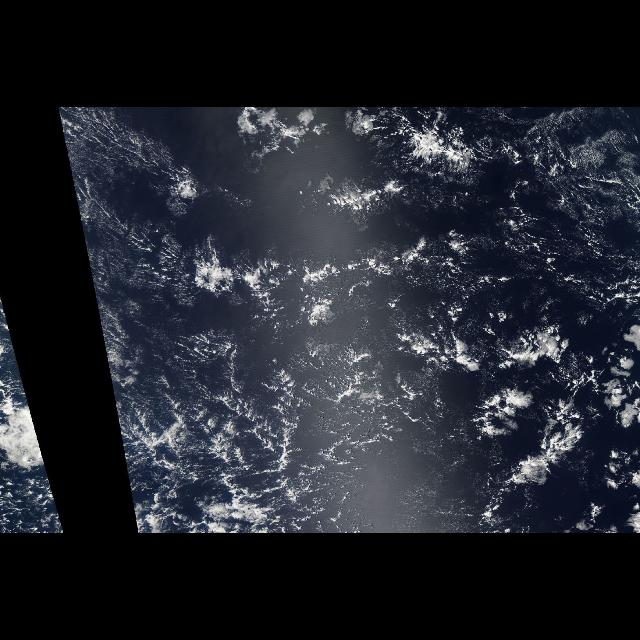Fish: (121, 361, 332, 533)
Flower: (388, 290, 638, 518)
Gravel: (68, 118, 636, 342)
Sugar: (58, 110, 178, 376)
